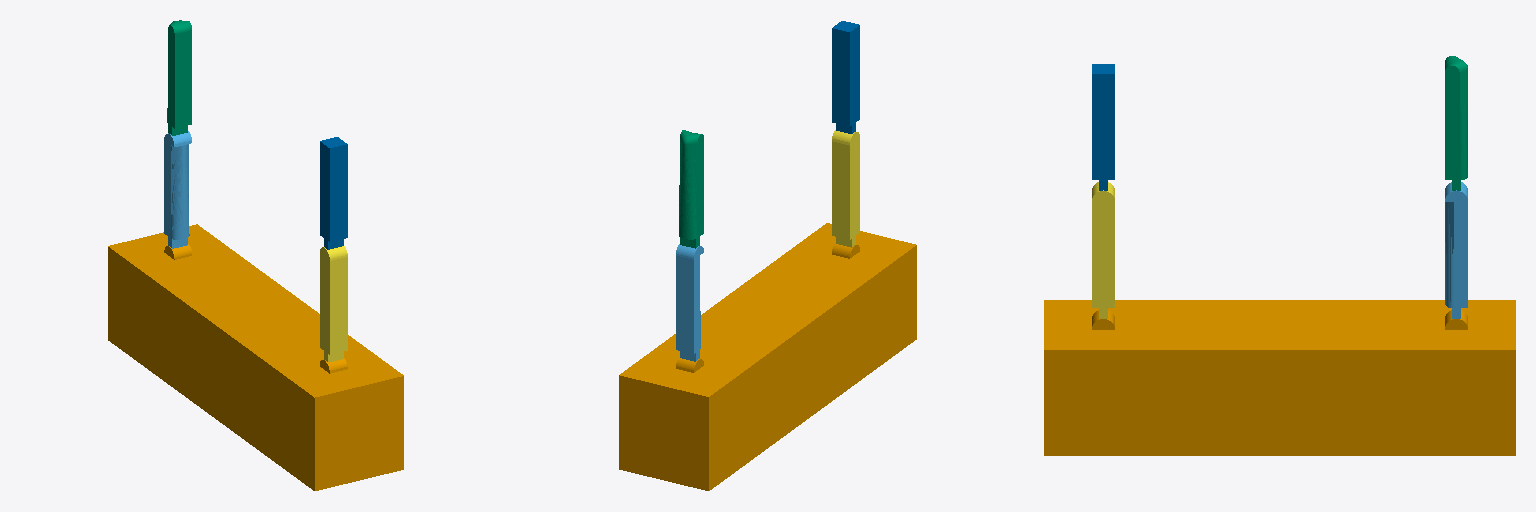
URDF robot description (test_hand):
<?xml version="1.0" ?>
<robot name="test_hand">

    <link name="palm">
        <visual>
            <origin rpy="0 0 0" xyz="0 0 0"/>
            <geometry>
                <mesh filename="obj_files/palm.obj" scale="1 1 1"/>
            </geometry>
        </visual>
        <collision>
            <geometry>
                <mesh filename="obj_files/palm_collision.obj" scale="1 1 1"/>
            </geometry>
        </collision>
    </link>

    <link name="finger0_segment0">
        <visual>
            <origin rpy="0 0 3.141592653589793" xyz="0 0 0"/>
            <geometry>
                <mesh filename="obj_files/finger0_segment0.obj" scale="1 1 1"/>
            </geometry>
        </visual>
        <collision>
            <geometry>
                <mesh filename="obj_files/finger0_segment0_collision.obj" scale="1 1 1"/>
            </geometry>
        </collision>
    </link>

    <joint name="finger0_segment0_joint" type="revolute">
        <parent link="palm"/>
        <child link="finger0_segment0"/>
        <origin rpy="0 0 0" xyz="0.0 0.75 0"/> #3.141592653589793
        <axis xyz="-1 0 0"/>
        <limit effort="1000.0" lower="-3.14" upper="3.14" velocity="0.5"/>
    </joint>

    <link name="finger0_segment1">
        <visual>
            <origin rpy="0 0 0" xyz="0 0 0"/>
            <geometry>
                <mesh filename="obj_files/finger0_segment1.obj" scale="1 1 1"/>
            </geometry>
        </visual>
        <collision>
            <geometry>
                <mesh filename="obj_files/finger0_segment1_collision.obj" scale="1 1 1"/>
            </geometry>
        </collision>
    </link>

    <joint name="finger0_segment1_joint" type="revolute">
        <parent link="finger0_segment0"/>
        <child link="finger0_segment1"/>
        <origin rpy="0 0 0" xyz="0 0 0.6"/>
        <axis xyz="1 0 0"/>
        <limit effort="1000.0" lower="-3.14" upper="3.14" velocity="0.5"/>
    </joint>

    <link name="finger1_segment0">
        <visual>
            <origin rpy="0 0 0" xyz="0 0 0"/>
            <geometry>
                <mesh filename="obj_files/finger1_segment0.obj" scale="1 1 1"/>
            </geometry>
        </visual>
        <collision>
            <geometry>
                <mesh filename="obj_files/finger1_segment0_collision.obj" scale="1 1 1"/>
            </geometry>
        </collision>
    </link>

    <joint name="finger1_segment0_joint" type="revolute">
        <parent link="palm"/>
        <child link="finger1_segment0"/>
        <origin rpy="0 0 0.0" xyz="9.184850993605148e-17 -0.75 0"/>
        <axis xyz="1 0 0"/>
        <limit effort="1000.0" lower="-3.14" upper="3.14" velocity="0.5"/>
    </joint>

    <link name="finger1_segment1">
        <visual>
            <origin rpy="0 0 0" xyz="0 0 0"/>
            <geometry>
                <mesh filename="obj_files/finger1_segment1.obj" scale="1 1 1"/>
            </geometry>
        </visual>
        <collision>
            <geometry>
                <mesh filename="obj_files/finger1_segment1_collision.obj" scale="1 1 1"/>
            </geometry>
        </collision>
    </link>

    <joint name="finger1_segment1_joint" type="revolute">
        <parent link="finger1_segment0"/>
        <child link="finger1_segment1"/>
        <origin rpy="0 0 0" xyz="0 0 0.6"/>
        <axis xyz="1 0 0"/>
        <limit effort="1000.0" lower="-3.14" upper="3.14" velocity="0.5"/>
    </joint>

</robot>

--- Facts derived from the render (not from the file) ---
3 views of the same robot in one strip: view 1: azimuth 30°, elevation 25°; view 2: azimuth 150°, elevation 25°; view 3: azimuth 270°, elevation 25° (orthographic).
Model test_hand with 5 links and 4 joints (4 revolute), rooted at palm, posed all joints at 0.
Visible links, largest first — view 1: palm, finger1_segment0, finger1_segment1, finger0_segment0, finger0_segment1; view 2: palm, finger1_segment0, finger1_segment1, finger0_segment1, finger0_segment0; view 3: palm, finger0_segment1, finger1_segment0, finger0_segment0, finger1_segment1.
Link boxes in pixels (bbox=[...]): palm: bbox=[108, 224, 403, 490]; finger1_segment0: bbox=[320, 246, 347, 361]; finger1_segment1: bbox=[320, 137, 347, 249]; finger0_segment0: bbox=[164, 131, 191, 248]; finger0_segment1: bbox=[167, 20, 191, 135]; palm: bbox=[619, 223, 916, 490]; finger1_segment0: bbox=[832, 130, 859, 247]; finger1_segment1: bbox=[832, 21, 859, 133]; finger0_segment1: bbox=[679, 130, 703, 248]; finger0_segment0: bbox=[676, 244, 703, 361]; palm: bbox=[1044, 300, 1515, 455]; finger0_segment1: bbox=[1445, 56, 1467, 190]; finger1_segment0: bbox=[1092, 182, 1114, 318]; finger0_segment0: bbox=[1445, 182, 1467, 318]; finger1_segment1: bbox=[1092, 64, 1114, 190].
Bounding box of the posed robot: 0.5 × 2 × 1.74 m (x, y, z).
Meshes: 5 distinct files referenced, 5 mesh visuals loaded (5 OBJ).